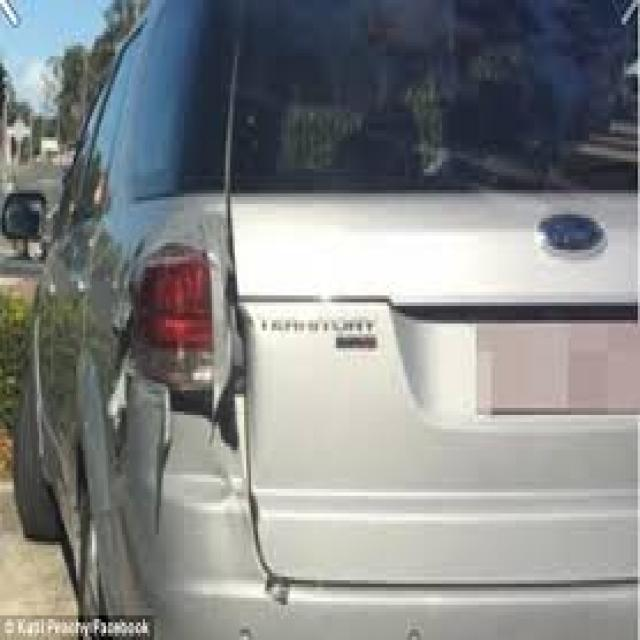minor: (87, 213, 277, 463)
